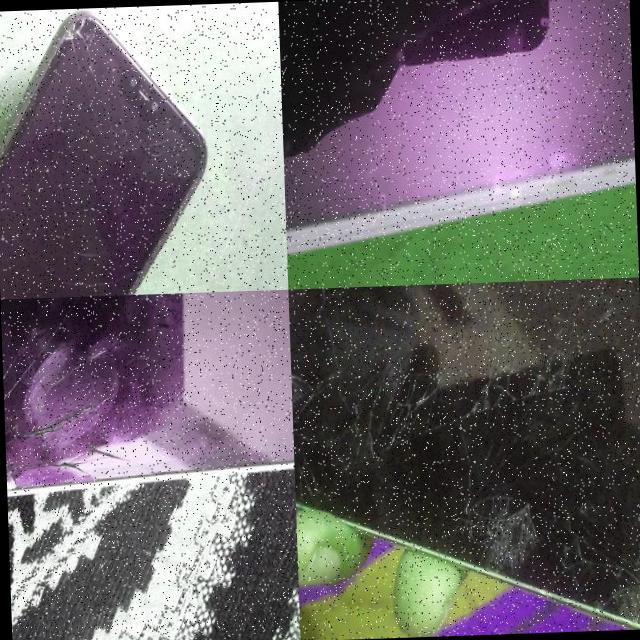screen crack: (405, 280, 640, 449), (0, 324, 147, 502), (288, 305, 350, 530), (47, 7, 132, 160), (462, 473, 564, 588)
